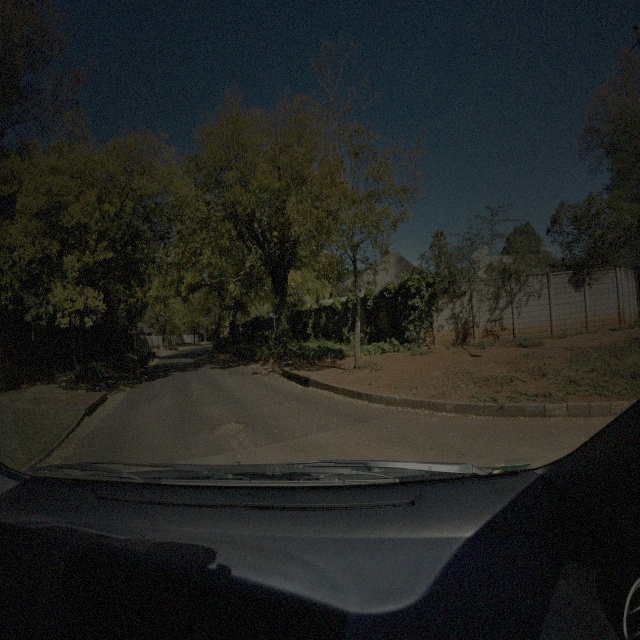pothole: (210, 419, 248, 438)
